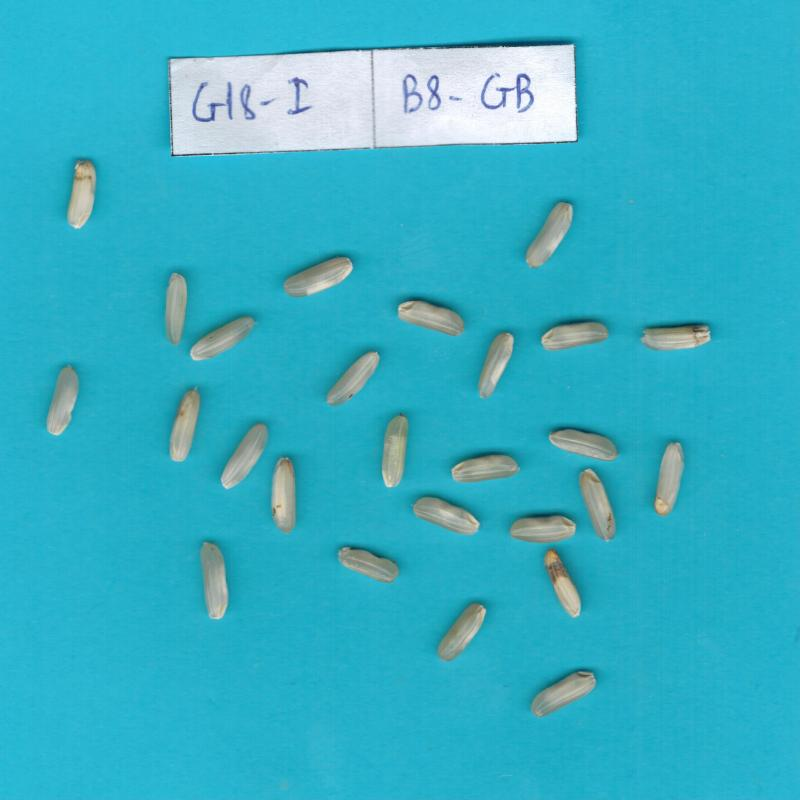Inferior: (545, 549, 581, 618), (67, 161, 96, 229), (641, 325, 711, 351)
Rice: (531, 670, 596, 717), (221, 424, 267, 489), (526, 202, 572, 267), (326, 352, 379, 406), (191, 317, 256, 361), (283, 257, 353, 297), (438, 603, 485, 662), (412, 497, 478, 535), (580, 469, 615, 540), (398, 300, 463, 336), (46, 367, 79, 435), (479, 334, 514, 398), (549, 429, 618, 461), (170, 390, 200, 462), (201, 542, 229, 619), (654, 442, 683, 515), (339, 547, 398, 582), (271, 458, 296, 532), (453, 455, 519, 483), (382, 414, 407, 487), (541, 324, 607, 351), (510, 516, 576, 542), (166, 273, 187, 345)
